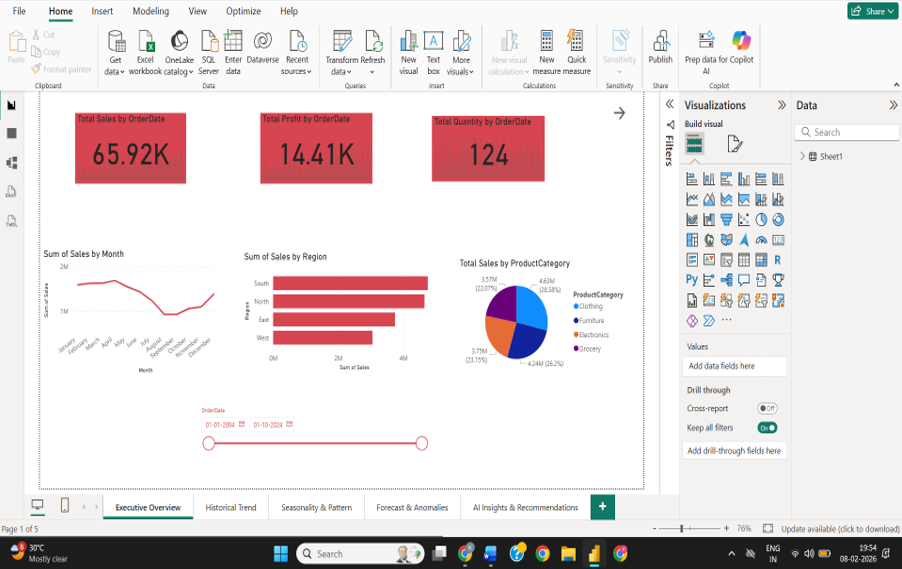

The dashboard page shown, as its layout file describes it:
{"tool":"powerbi","page":{"name":"Executive Overview","canvas":[1280,720],"ordinal":0},"visuals":[{"type":"kpi","fields":{"Indicator":["Sheet1.Total Sales"],"TrendLine":["Sheet1.OrderDate"]},"box":[74.4,40,235.6,127.8],"z":0},{"type":"kpi","fields":{"Indicator":["Sheet1.Total Profit"],"TrendLine":["Sheet1.OrderDate"]},"box":[467.8,40,237.8,127.8],"z":1000},{"type":"kpi","fields":{"Indicator":["Sheet1.Total Quantity"],"TrendLine":["Sheet1.OrderDate"]},"box":[831.1,45.6,238.9,118.9],"z":2000},{"type":"lineChart","fields":{"Category":["Sheet1.OrderDate.Variation.Date Hierarchy.Month"],"Y":["Sum(Sheet1.Sales)"]},"box":[2.6,285.3,380.9,231.7],"z":3000},{"type":"barChart","fields":{"Category":["Sheet1.Region"],"Y":["Sum(Sheet1.Sales)"]},"box":[428,290.6,425.4,221.2],"z":4000},{"type":"slicer","fields":{"Values":["Sheet1.OrderDate"]},"box":[329.8,566.7,501.3,92.9],"z":5000},{"type":"actionButton","box":[1212,24.9,32.7,32.7],"z":6000},{"type":"pieChart","fields":{"Category":["Sheet1.ProductCategory"],"Y":["Sheet1.Total Sales"]},"box":[884.8,302.3,371.7,214.7],"z":8000}]}

Visuals, with their boxes on the page's 1280x720 design canvas (x1, y1, x2, y2). These are canvas units, not pixel positions in the 902x569 screenshot, which may show the page scaled, cropped or inside an application window:
kpi - Sheet1.Total Sales x Sheet1.OrderDate: l=74, t=40, r=310, b=168
kpi - Sheet1.Total Profit x Sheet1.OrderDate: l=468, t=40, r=706, b=168
kpi - Sheet1.Total Quantity x Sheet1.OrderDate: l=831, t=46, r=1070, b=164
lineChart - Sheet1.OrderDate.Variation.Date Hierarchy.Month x Sum(Sheet1.Sales): l=3, t=285, r=384, b=517
barChart - Sheet1.Region x Sum(Sheet1.Sales): l=428, t=291, r=853, b=512
slicer - Sheet1.OrderDate: l=330, t=567, r=831, b=660
actionButton: l=1212, t=25, r=1245, b=58
pieChart - Sheet1.ProductCategory x Sheet1.Total Sales: l=885, t=302, r=1256, b=517
